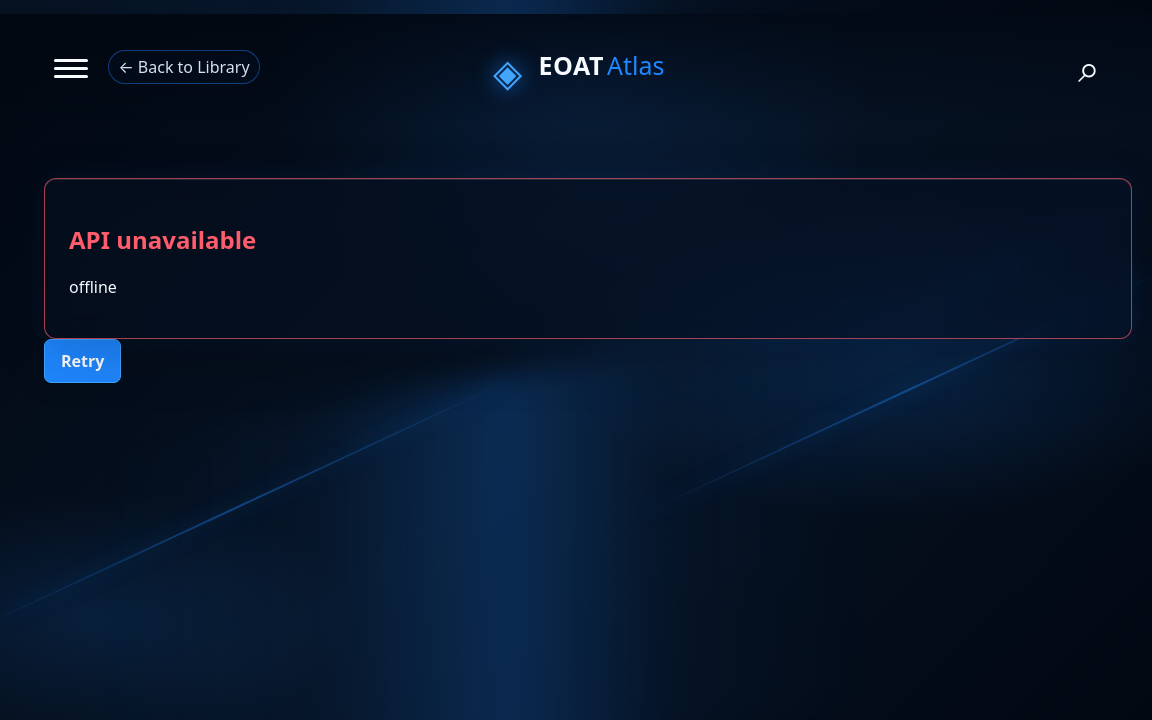
it: EOAT profile route › renders a truthful not-found state and retries only with GET
This screenshot has width=1152, height=720.
(page scrolled)
Click the button "Retry": x=83, y=361 [44,339,121,383]
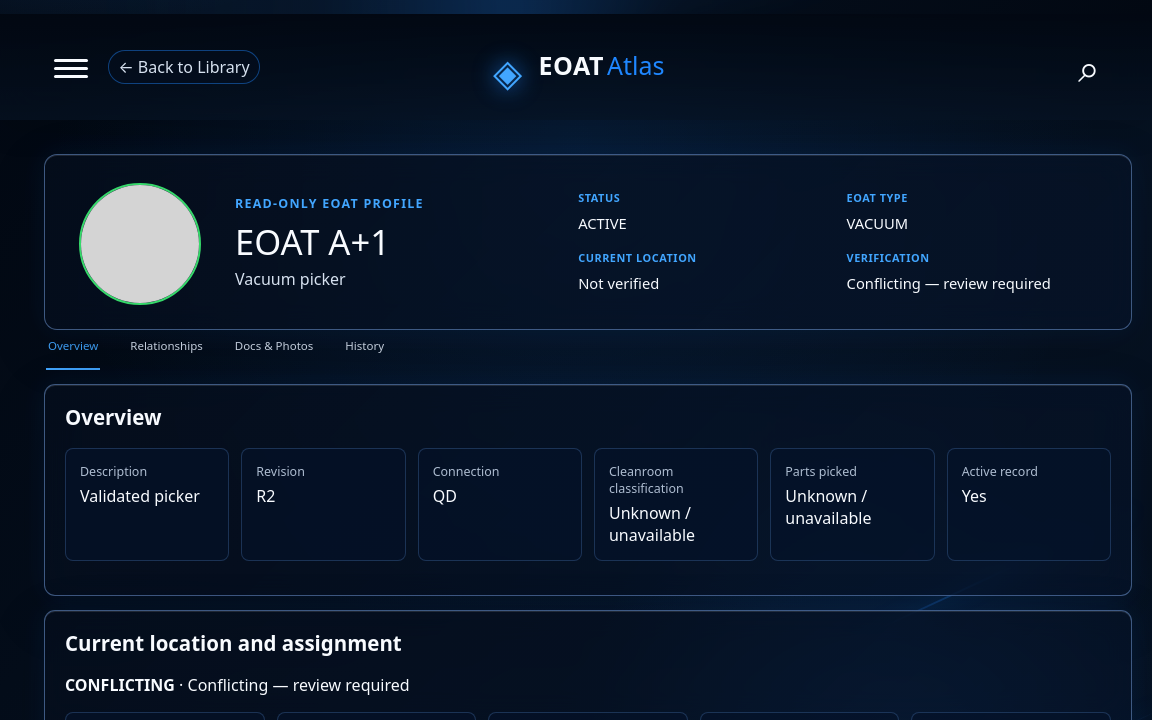
Expected: the heading "EOAT A+1" is shown, [235,218,390,264]
